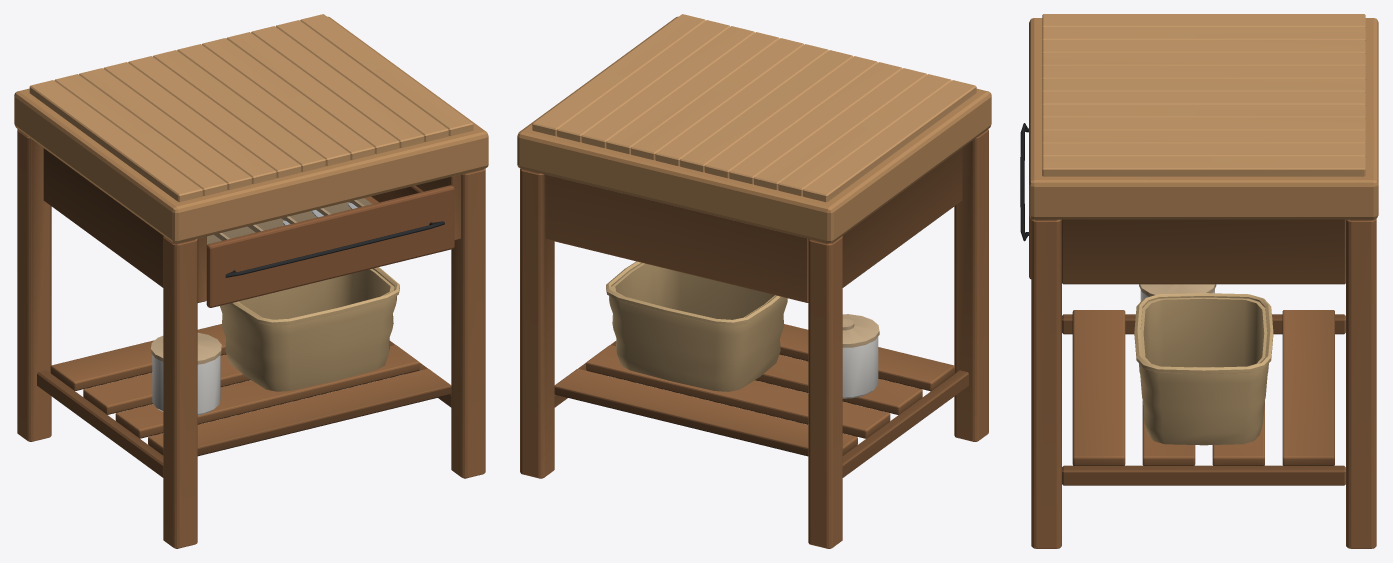
Rendered from butcherBlock.glb.
3 renders of one model, left to right at view 1: azimuth 30°, elevation 25°; view 2: azimuth 150°, elevation 25°; view 3: azimuth 270°, elevation 25°, orthographic. The views are drawn at different scales.
Parts seen in each view (by area): view 1: body, drawer; view 2: body; view 3: body, drawer.
Boxes of the visible parts, box(x1,y1,x2,y2) form: body: box(14, 14, 488, 548); drawer: box(206, 185, 454, 307); body: box(517, 14, 991, 548); body: box(1029, 14, 1378, 548); drawer: box(1020, 123, 1031, 278).
Bounding box in the file's own units: 0.9 × 0.95 × 0.8202.
